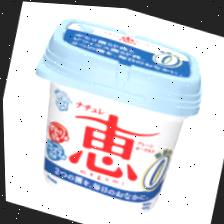plastic: (35, 17, 202, 216)
